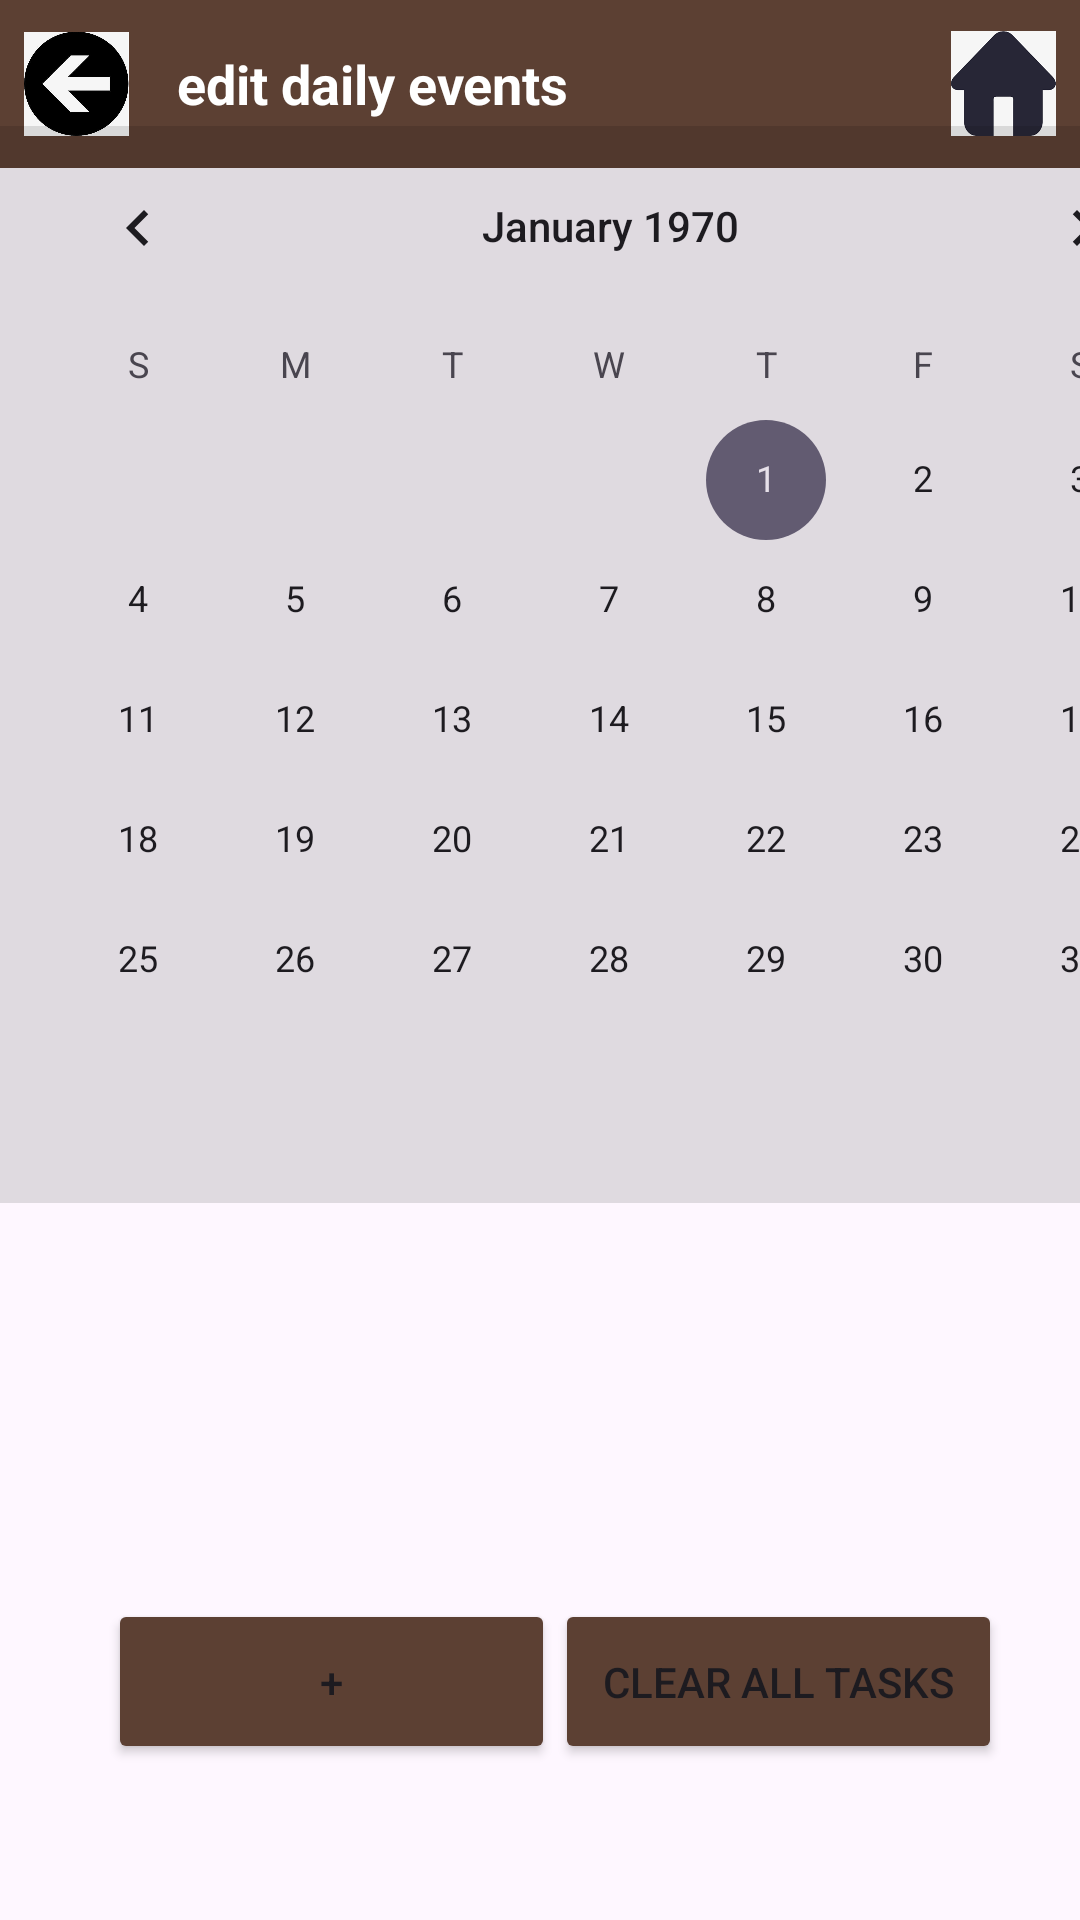

Icon click points for this 1080*1920 phone screenshot, format (x=x, y=y):
Back: (x=76, y=84)
